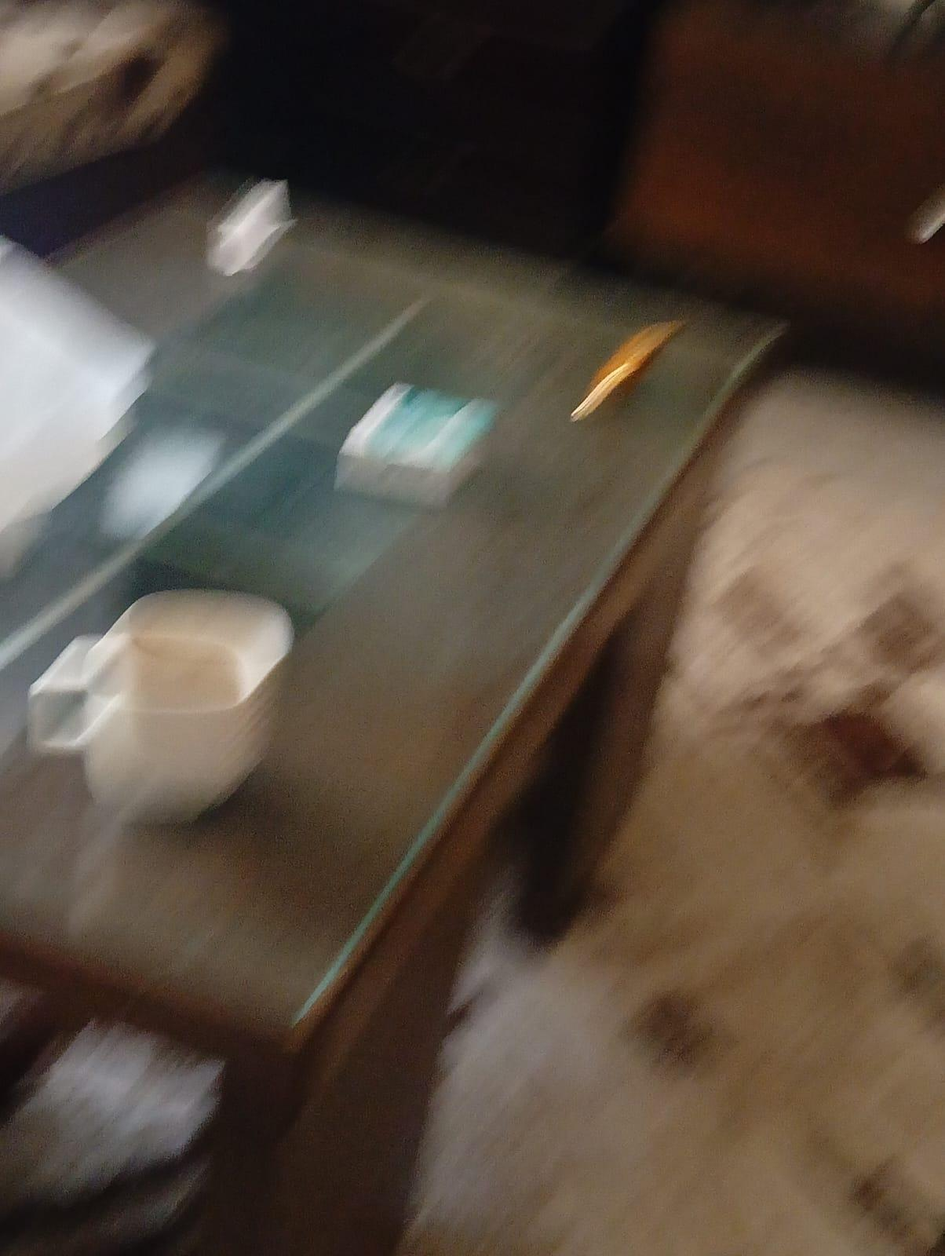cup: (29, 591, 292, 821)
